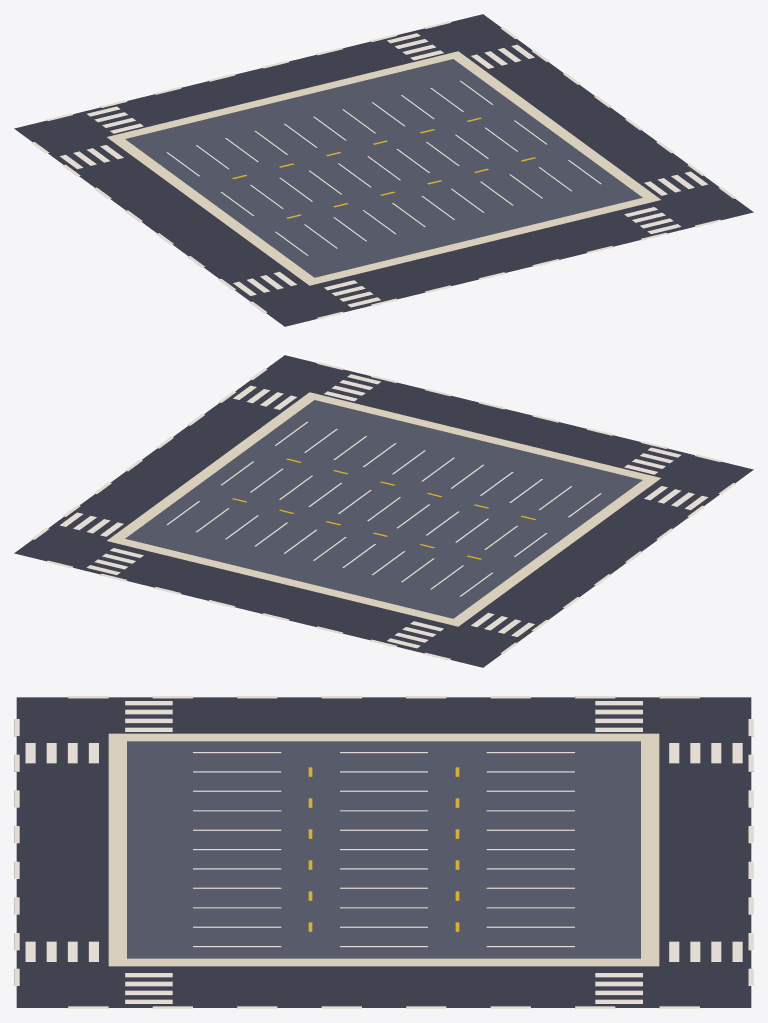
Rendered from tile_parking.glb.
3 renders of one model, top to bottom at view 1: azimuth 30°, elevation 25°; view 2: azimuth 150°, elevation 25°; view 3: azimuth 270°, elevation 25°, orthographic. The views are drawn at different scales.
Parts seen in each view (by area): view 1: tile_parking; view 2: tile_parking; view 3: tile_parking.
Boxes of the visible parts, x1,y1,x2,y2 form: tile_parking: (14, 14, 753, 326); tile_parking: (14, 355, 753, 667); tile_parking: (14, 696, 753, 1008).
Size of the model in its own units: 40.3 by 0.1919 by 40.3.
Materials: 1 (1 with a texture image).
